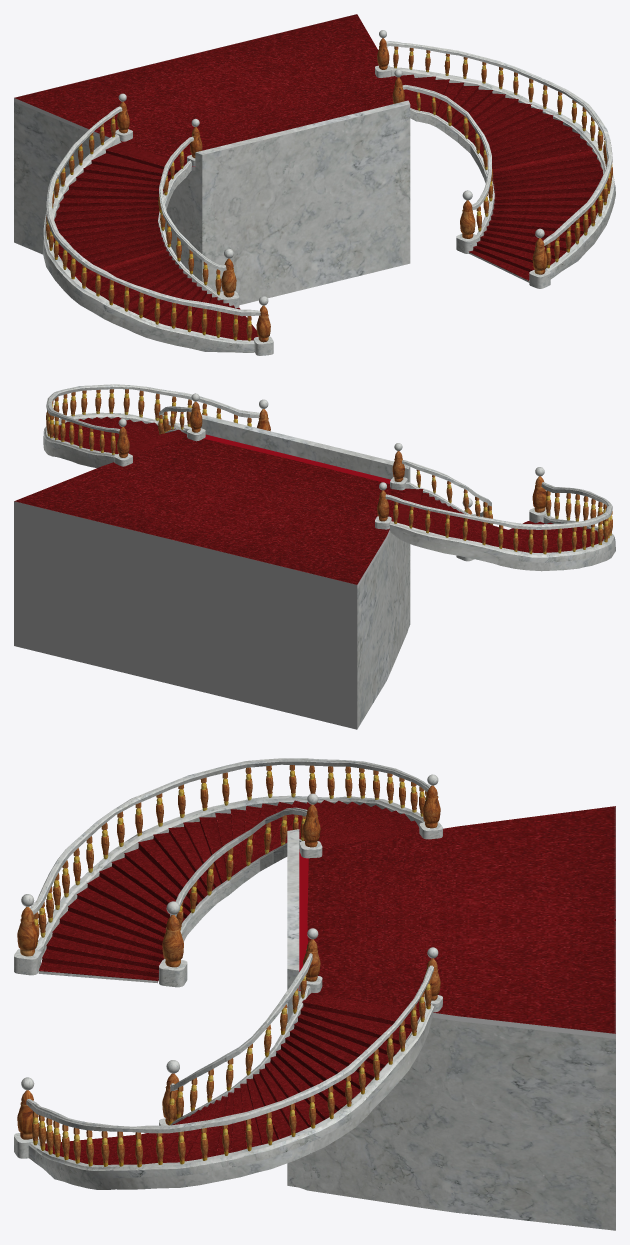
Rendered from Capstone_StairsLastone.fbx.
3 renders of one model, top to bottom at view 1: azimuth 30°, elevation 25°; view 2: azimuth 150°, elevation 25°; view 3: azimuth 270°, elevation 25°, orthographic. The views are drawn at different scales.
Visible parts, largest first — view 1: polySurface41; view 2: polySurface41; view 3: polySurface41.
Boxes of the visible parts, box(x1,y1,x2,y2) form: polySurface41: box(14, 14, 615, 355); polySurface41: box(14, 384, 615, 729); polySurface41: box(14, 758, 615, 1230).
Bounding box in the file's own units: 57.07 × 19.16 × 40.66.
7 materials, 4 textured.
